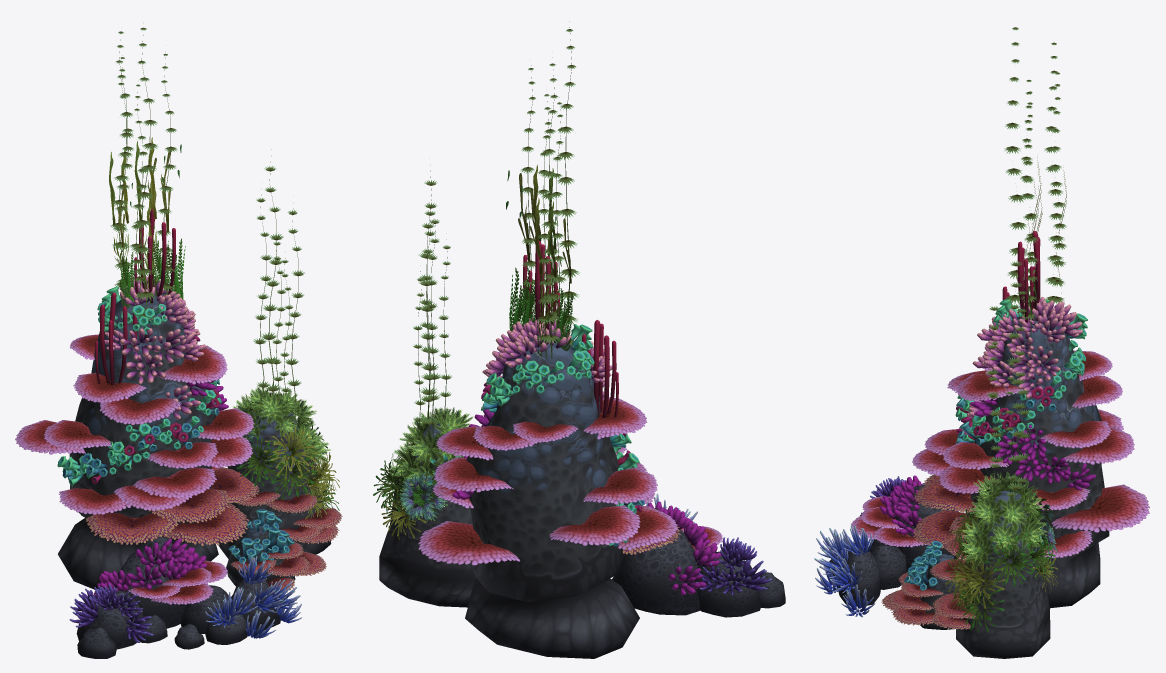
Rendered from CoralSet_12.FBX.
3 renders of one model, left to right at view 1: azimuth 30°, elevation 25°; view 2: azimuth 150°, elevation 25°; view 3: azimuth 270°, elevation 25°, orthographic. The views are drawn at different scales.
Parts seen in each view (by area): view 1: Set_12, Set_12_Part122, Set_12_Part28, Set_12_Part11, Set_12_Part44, Set_12_Part19, Set_12_Part80, Set_12_Part109, Set_12_Part31, Set_12_Part42, Set_12_Part100, Set_12_Part78 (+56 smaller); view 2: Set_12, Set_12_Part28, Set_12_Part109, Set_12_Part122, Set_12_Part111, Set_12_Part123, Set_12_Part125, Set_12_Part98, Set_12_Part56, Set_12_Part95, Set_12_Part83, Set_12_Part32 (+22 smaller); view 3: Set_12, Set_12_Part28, Set_12_Part122, Set_12_Part111, Set_12_Part11, Set_12_Part31, Set_12_Part19, Set_12_Part18, Set_12_Part95, Set_12_Part57, Set_12_Part78, Set_12_Part96 (+36 smaller).
Part boxes in pixels (left/top/right/bottom): Set_12: left=58, top=293, right=218, bottom=589; Set_12_Part122: left=57, top=286, right=222, bottom=486; Set_12_Part28: left=218, top=399, right=331, bottom=558; Set_12_Part11: left=236, top=491, right=342, bottom=544; Set_12_Part44: left=85, top=513, right=180, bottom=544; Set_12_Part19: left=128, top=560, right=227, bottom=604; Set_12_Part80: left=161, top=504, right=249, bottom=545; Set_12_Part109: left=114, top=536, right=184, bottom=628; Set_12_Part31: left=231, top=541, right=326, bottom=592; Set_12_Part42: left=132, top=467, right=216, bottom=498; Set_12_Part100: left=99, top=398, right=181, bottom=424; Set_12_Part78: left=148, top=489, right=229, bottom=523; Set_12: left=465, top=338, right=639, bottom=658; Set_12_Part28: left=379, top=422, right=474, bottom=607; Set_12_Part109: left=612, top=508, right=700, bottom=615; Set_12_Part122: left=481, top=324, right=644, bottom=546; Set_12_Part111: left=418, top=521, right=520, bottom=565; Set_12_Part123: left=549, top=505, right=640, bottom=545; Set_12_Part125: left=695, top=551, right=761, bottom=617; Set_12_Part98: left=583, top=467, right=657, bottom=504; Set_12_Part56: left=582, top=320, right=618, bottom=417; Set_12_Part95: left=434, top=457, right=513, bottom=492; Set_12_Part83: left=398, top=470, right=447, bottom=521; Set_12_Part32: left=618, top=506, right=677, bottom=550; Set_12: left=965, top=315, right=1109, bottom=608; Set_12_Part28: left=956, top=490, right=1050, bottom=658; Set_12_Part122: left=955, top=298, right=1087, bottom=445; Set_12_Part111: left=1051, top=484, right=1149, bottom=532; Set_12_Part11: left=930, top=538, right=977, bottom=629; Set_12_Part31: left=881, top=572, right=943, bottom=625; Set_12_Part19: left=850, top=496, right=929, bottom=547; Set_12_Part18: left=838, top=548, right=880, bottom=606; Set_12_Part95: left=1064, top=426, right=1134, bottom=464; Set_12_Part57: left=1017, top=231, right=1040, bottom=323; Set_12_Part78: left=914, top=479, right=976, bottom=513; Set_12_Part96: left=1039, top=421, right=1111, bottom=448.
Size of the model in its own units: 112 by 194 by 104.
